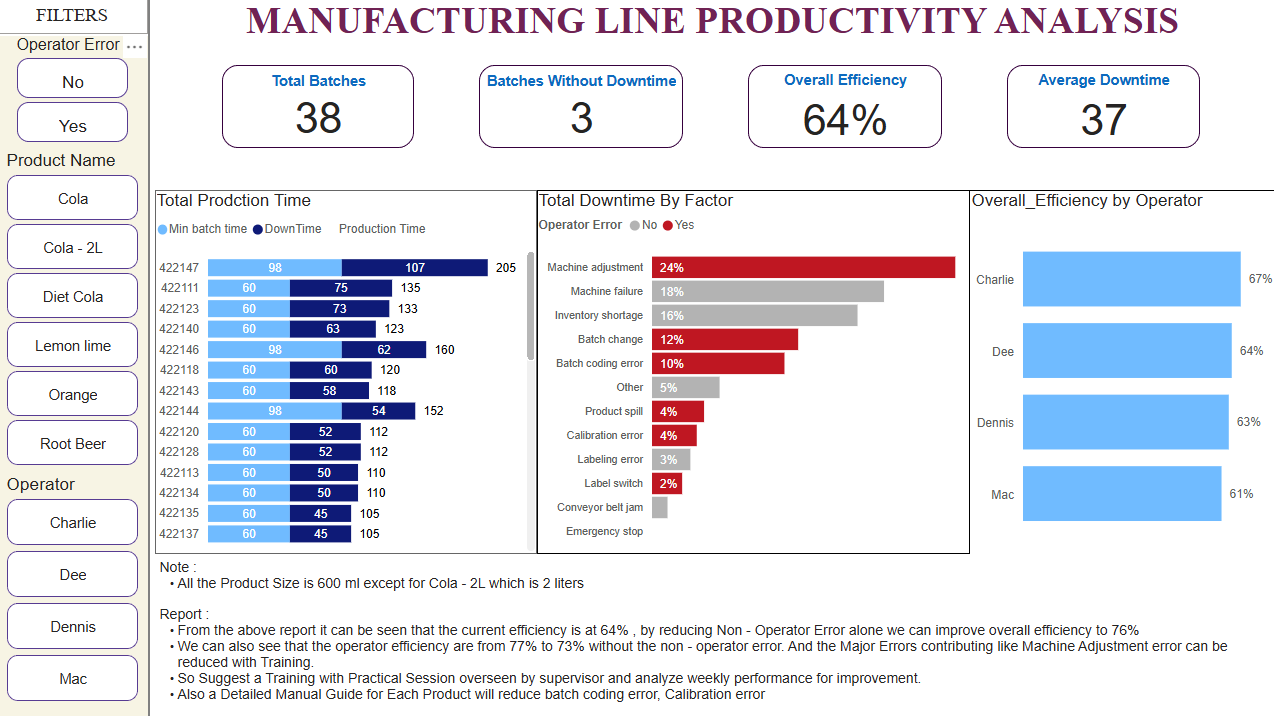

This screenshot's page, from the dashboard's own definition file:
{"tool":"powerbi","page":{"name":"Report","canvas":[1280,720],"ordinal":0},"visuals":[{"type":"textbox","title":"MANUFACTURING LINE PRODUCTIVITY ANALYSIS","box":[152.2,0,1127.8,45.4],"z":0},{"type":"shape","box":[146.1,0,12.1,719.6],"z":1000},{"type":"cardVisual","fields":{"Data":["Count(BatchProductiontime.Batch)"]},"box":[224.8,65.5,192.5,83.7],"z":2000},{"type":"cardVisual","fields":{"Data":["BatchProductiontime.batcheswithnodowntime"]},"box":[482.4,65.5,203.6,83.7],"z":3000},{"type":"cardVisual","fields":{"Data":["BatchProductiontime.Overall_Efficiency"]},"box":[751.2,65.5,193.5,83.7],"z":4000},{"type":"cardVisual","fields":{"Data":["Line downtime.Average Downtime"]},"box":[1009.9,65.5,193.5,83.7],"z":5000},{"type":"barChart","title":"Total Prodction Time","fields":{"Category":["BatchProductiontime.Batch"],"Y":["Sum(BatchProductiontime.Min batch time)","Sum(BatchProductiontime.DownTime)","Sum(BatchProductiontime.totaltime)"]},"box":[158.2,191.5,382,363.8],"z":6000},{"type":"barChart","title":"Total Downtime By Factor","fields":{"Category":["Downtime factors.Description"],"Y":["Sum(Line downtime.Duration)"],"Series":["Downtime factors.Operator Error"]},"box":[540.2,191.5,432.4,363.8],"z":7000},{"type":"barChart","fields":{"Category":["BatchProductiontime.Operator"],"Y":["BatchProductiontime.Overall_Efficiency"]},"box":[972.1,191.4,307.9,364.3],"z":8000},{"type":"advancedSlicerVisual","fields":{"Values":["Downtime factors.Operator Error"]},"box":[0,37.3,151,114.9],"z":9000},{"type":"textbox","box":[0,0,151,35.3],"z":10000},{"type":"advancedSlicerVisual","fields":{"Values":["BatchProductiontime.Product Name"]},"box":[0,152.2,151.2,322.5],"z":11000},{"type":"advancedSlicerVisual","fields":{"Values":["BatchProductiontime.Operator"]},"box":[0,474.7,151.2,244.9],"z":12000},{"type":"textbox","box":[158,555.2,1122,164.9],"z":13000}]}

Visuals, with their boxes in screenshot pixels (x1, y1, x2, y2), scaled from the page's 1280x720 canvas onto the 1274x716 screenshot:
"MANUFACTURING LINE PRODUCTIVITY ANALYSIS" textbox: crop(151, 0, 1273, 45)
shape: crop(145, 0, 157, 715)
cardVisual - Count(BatchProductiontime.Batch): crop(224, 65, 415, 148)
cardVisual - BatchProductiontime.batcheswithnodowntime: crop(480, 65, 683, 148)
cardVisual - BatchProductiontime.Overall_Efficiency: crop(748, 65, 940, 148)
cardVisual - Line downtime.Average Downtime: crop(1005, 65, 1198, 148)
"Total Prodction Time" barChart: crop(157, 190, 538, 552)
"Total Downtime By Factor" barChart: crop(538, 190, 968, 552)
barChart - BatchProductiontime.Operator x BatchProductiontime.Overall_Efficiency: crop(968, 190, 1273, 553)
advancedSlicerVisual - Downtime factors.Operator Error: crop(0, 37, 150, 151)
textbox: crop(0, 0, 150, 35)
advancedSlicerVisual - BatchProductiontime.Product Name: crop(0, 151, 150, 472)
advancedSlicerVisual - BatchProductiontime.Operator: crop(0, 472, 150, 715)
textbox: crop(157, 552, 1273, 715)
